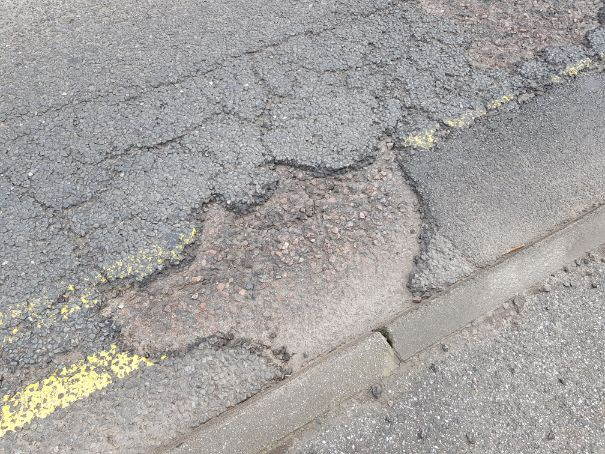pothole: (87, 120, 436, 383), (412, 0, 605, 111)
